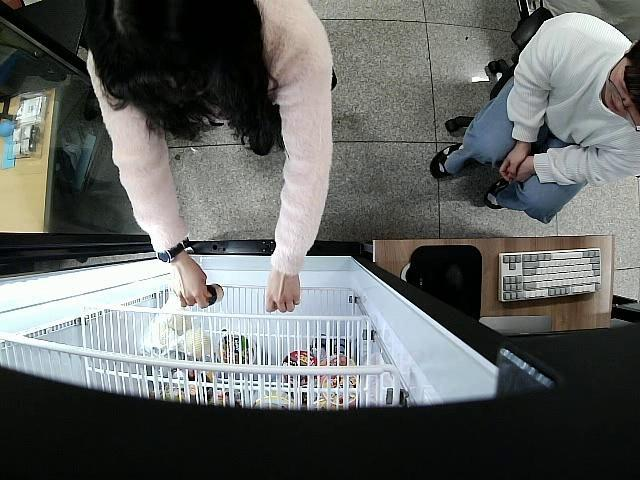17_vita500: (203, 280, 224, 310)
